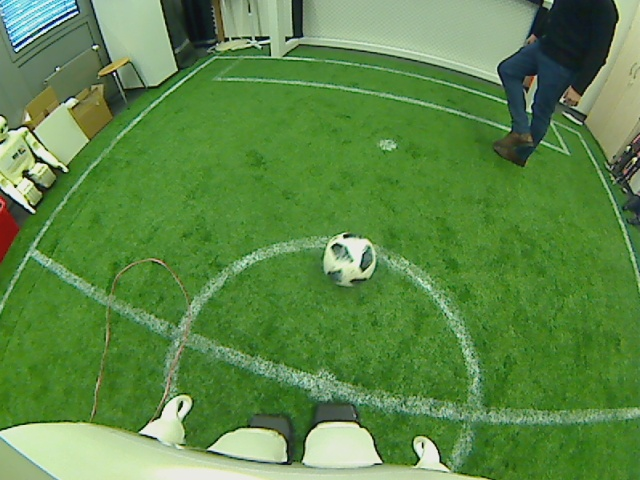ball: (321, 232, 377, 287)
